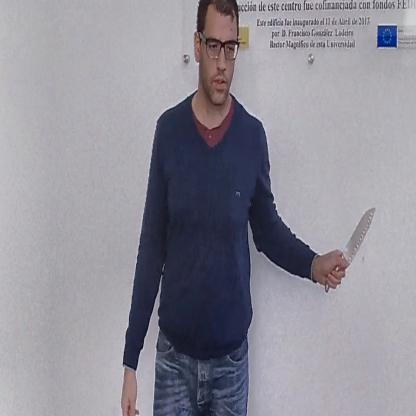knife: (320, 200, 378, 299)
